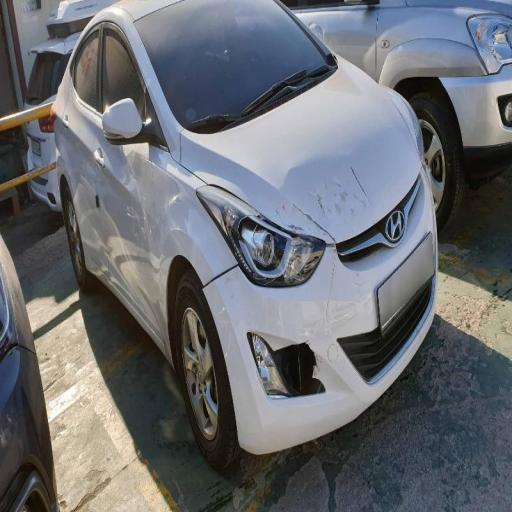broken: (272, 308, 350, 430), (190, 239, 255, 326)
dent: (158, 172, 206, 256)
scratch: (262, 148, 378, 249)
